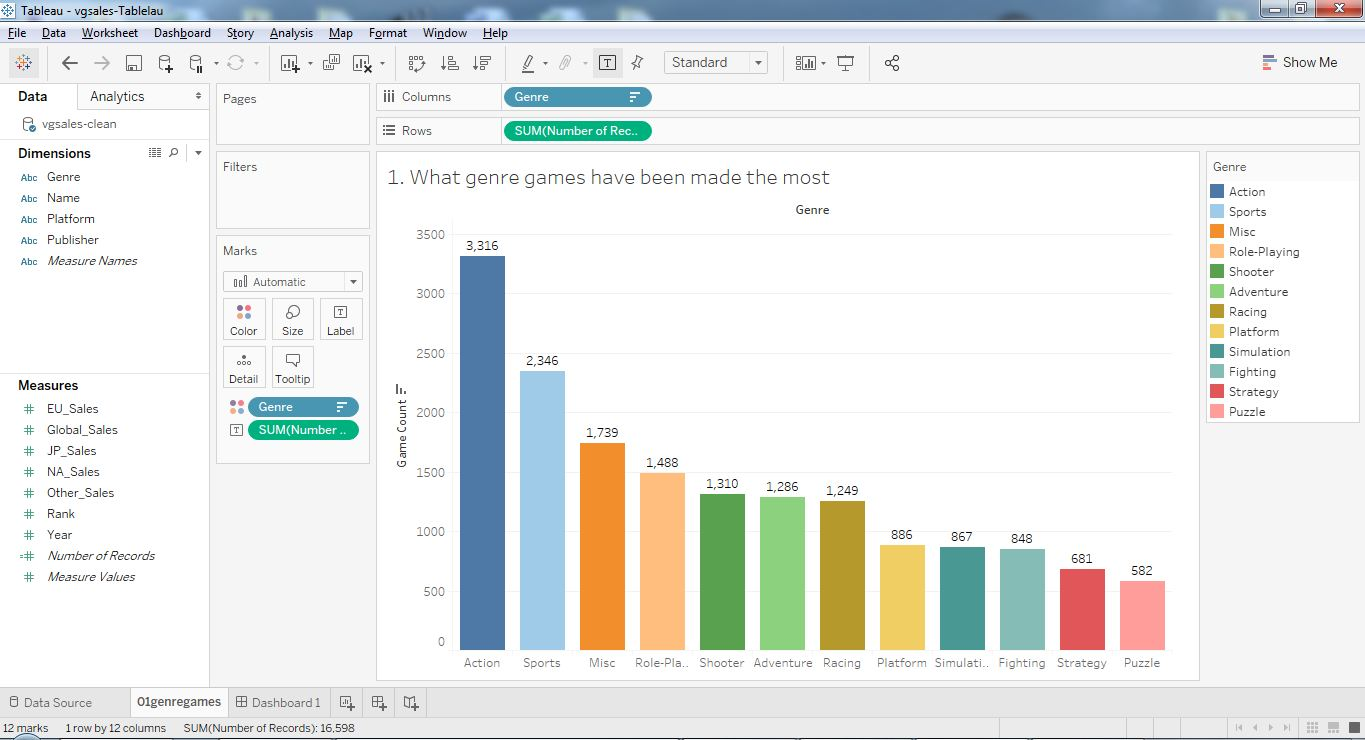

This screenshot's page, from the dashboard's own definition file:
{"tool":"tableau","page":{"name":"Dashboard 1","canvas":[1000,1000],"units":"permille","ordinal":0},"visuals":[{"type":"worksheet","title":"01genregames","mark":"Automatic","rows":["Number of Records"],"cols":["F5"],"box":[6.9,13.3,847.6,973.5]},{"type":"legend","title":"01genregames","param":"[federated.1l6uq6p1hj0jwq1ewgcnx05iow1u].[none:F5:nk]","box":[854.5,13.3,138.5,441.1]}]}

Visuals, with their boxes on the dashboard's canvas, which has no fixed pixel size, in thousandths of its width and height (x1, y1, x2, y2). These are canvas units, not pixel positions in the 1365x740 screenshot, which may show the page scaled, cropped or inside an application window:
"01genregames" worksheet: box=[7, 13, 854, 987]
"01genregames" legend: box=[854, 13, 993, 454]
